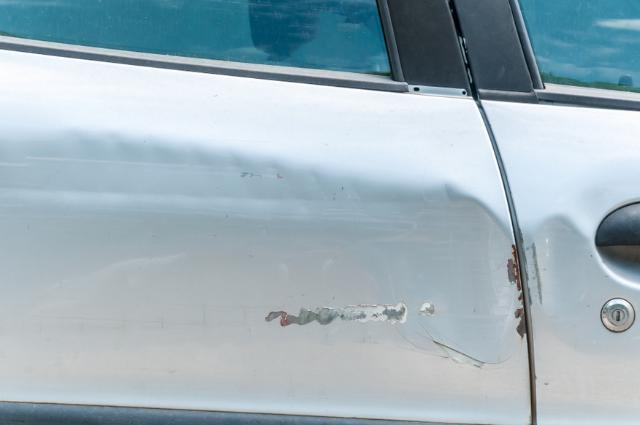Door: (215, 139, 528, 425)
